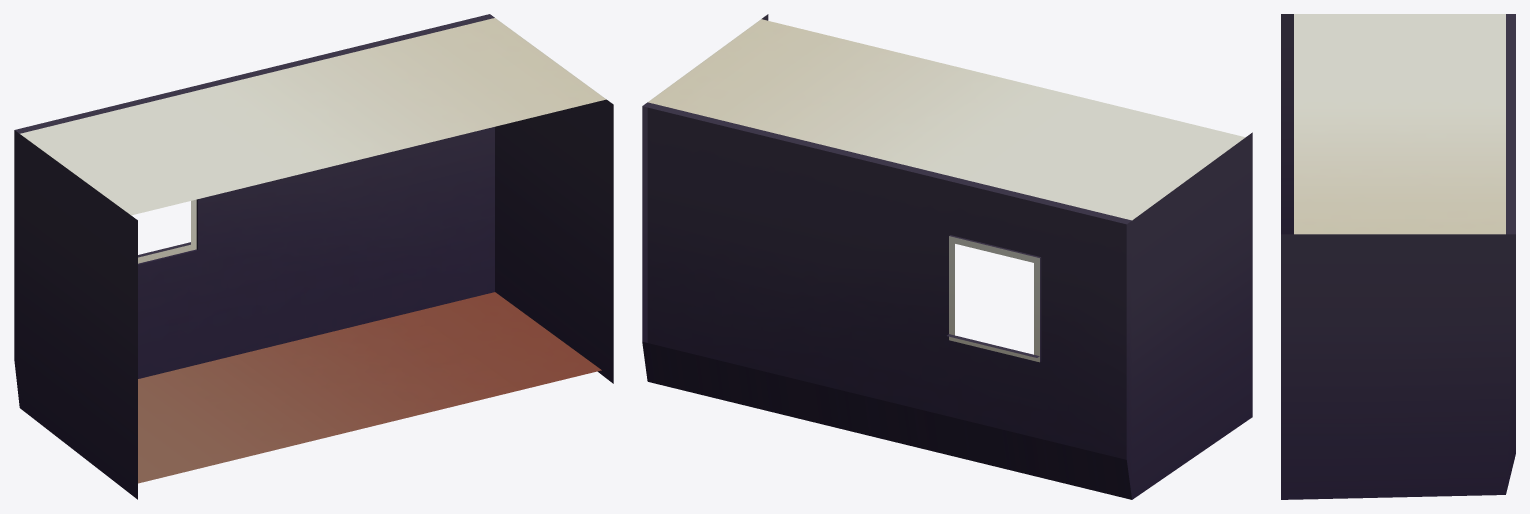
File: Wall.fbx
The picture shows the model from 3 angles, left to right: view 1: azimuth 30°, elevation 25°; view 2: azimuth 150°, elevation 25°; view 3: azimuth 270°, elevation 25°; orthographic projection. The views are drawn at different scales.
Visible parts, largest first — view 1: Wall; view 2: Wall; view 3: Wall.
Boxes of the visible parts, x1,y1,x2,y2 form: Wall: [14, 14, 613, 499]; Wall: [642, 14, 1252, 499]; Wall: [1281, 14, 1515, 499].
Bounding box in the file's own units: 4.62 × 5.77 × 10.26.
